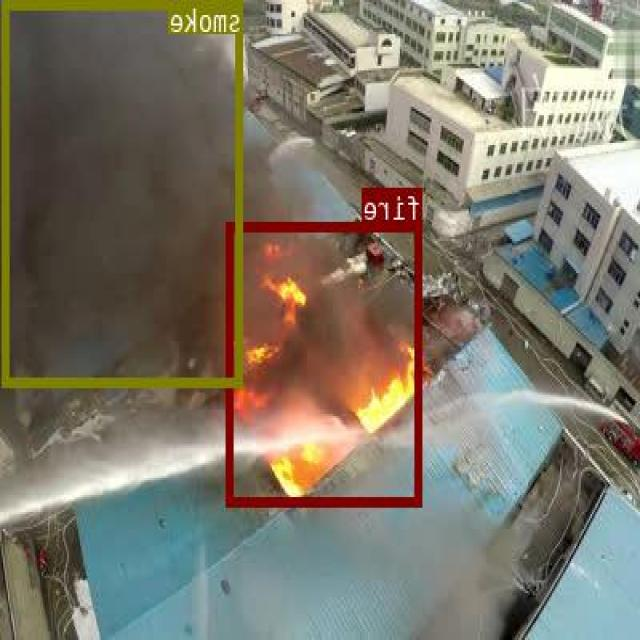fire: (228, 220, 422, 505)
smoke: (4, 0, 244, 386)
